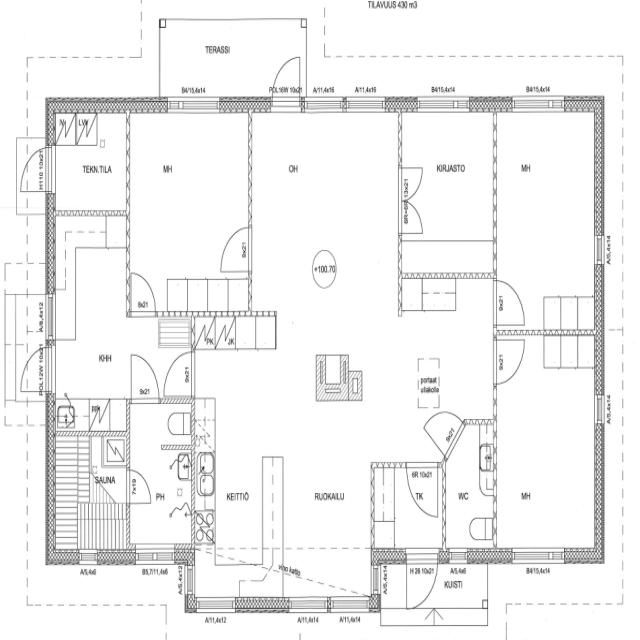door: (406, 457, 442, 520), (405, 548, 440, 612), (216, 218, 253, 276), (423, 410, 466, 459), (18, 341, 54, 398), (18, 142, 53, 199), (128, 348, 162, 404), (493, 274, 528, 328), (492, 333, 526, 387), (161, 347, 193, 399), (271, 51, 302, 104), (128, 266, 159, 318), (398, 159, 428, 205), (126, 465, 153, 507), (399, 197, 426, 237)
window: (165, 92, 224, 119), (510, 92, 568, 117), (415, 92, 472, 116), (510, 544, 566, 568), (133, 542, 179, 567), (342, 93, 387, 116), (303, 94, 346, 115), (328, 594, 371, 614), (286, 596, 330, 614), (194, 596, 237, 614), (592, 388, 608, 432), (44, 289, 57, 343), (593, 226, 608, 271), (76, 548, 100, 568), (448, 547, 470, 567)
zone: (251, 104, 402, 316), (126, 106, 252, 317), (492, 106, 600, 332), (192, 315, 276, 603), (493, 336, 599, 555), (49, 213, 130, 430), (400, 110, 495, 278), (51, 431, 129, 561), (127, 398, 193, 547), (51, 110, 126, 220), (440, 429, 496, 551), (405, 458, 442, 520), (400, 277, 454, 314)
